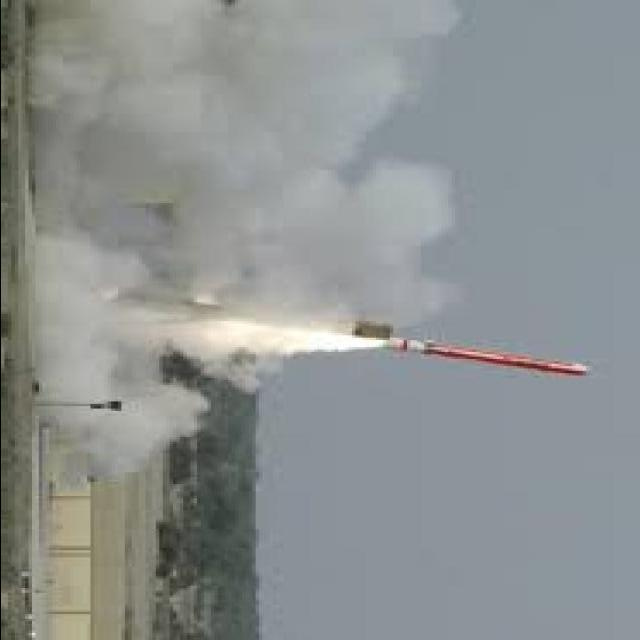missile: (383, 335, 593, 378)
